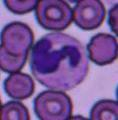N: (30, 32, 88, 90)
